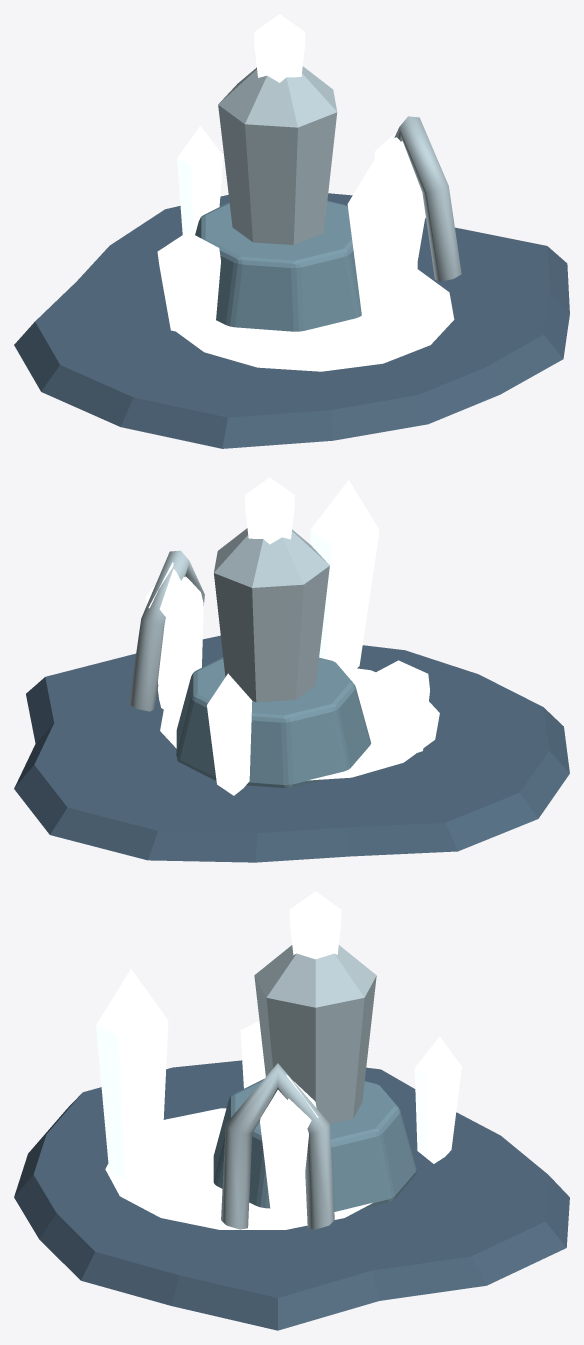
File: crystal-basin-lod2.glb
The picture shows the model from 3 angles, top to bottom: view 1: azimuth 30°, elevation 25°; view 2: azimuth 150°, elevation 25°; view 3: azimuth 270°, elevation 25°; orthographic projection. The views are drawn at different scales.
Parts seen in each view (by area): view 1: STONE_TERRAIN_SOCKET, CRYSTAL_PALACE_KEEP, STONE_PALACE_TERRACE, FX_FLOAT_CRYSTAL_3, CRYSTAL_REFLECTIVE_BASIN, CRYSTAL_SPIRE_2, CRYSTAL_PRISM_ARCH_0, CRYSTAL_SPIRE_1, FX_CORE, FX_FLOAT_CRYSTAL_0; view 2: STONE_TERRAIN_SOCKET, CRYSTAL_PALACE_KEEP, STONE_PALACE_TERRACE, FX_FLOAT_CRYSTAL_3, FX_FLOAT_CRYSTAL_0, CRYSTAL_SPIRE_2, CRYSTAL_SPIRE_1, CRYSTAL_PRISM_ARCH_0, CRYSTAL_REFLECTIVE_BASIN, FX_CORE; view 3: STONE_TERRAIN_SOCKET, CRYSTAL_PALACE_KEEP, FX_FLOAT_CRYSTAL_3, STONE_PALACE_TERRACE, CRYSTAL_REFLECTIVE_BASIN, CRYSTAL_PRISM_ARCH_0, FX_FLOAT_CRYSTAL_0, CRYSTAL_SPIRE_1, FX_CORE, CRYSTAL_SPIRE_2.
Part boxes in pixels (<box>): STONE_TERRAIN_SOCKET: <box>14,193,569,448</box>; CRYSTAL_PALACE_KEEP: <box>218,66,337,244</box>; STONE_PALACE_TERRACE: <box>195,200,361,331</box>; FX_FLOAT_CRYSTAL_3: <box>347,150,418,353</box>; CRYSTAL_REFLECTIVE_BASIN: <box>176,269,454,371</box>; CRYSTAL_SPIRE_2: <box>157,231,220,334</box>; CRYSTAL_PRISM_ARCH_0: <box>394,116,461,281</box>; CRYSTAL_SPIRE_1: <box>177,126,223,234</box>; FX_CORE: <box>254,14,305,82</box>; FX_FLOAT_CRYSTAL_0: <box>374,132,425,260</box>; STONE_TERRAIN_SOCKET: <box>14,635,569,862</box>; CRYSTAL_PALACE_KEEP: <box>214,528,329,702</box>; STONE_PALACE_TERRACE: <box>176,657,370,788</box>; FX_FLOAT_CRYSTAL_3: <box>310,480,379,676</box>; FX_FLOAT_CRYSTAL_0: <box>146,562,203,715</box>; CRYSTAL_SPIRE_2: <box>368,660,429,757</box>; CRYSTAL_SPIRE_1: <box>207,673,252,795</box>; CRYSTAL_PRISM_ARCH_0: <box>129,550,204,711</box>; CRYSTAL_REFLECTIVE_BASIN: <box>160,668,439,780</box>; FX_CORE: <box>245,477,294,544</box>; STONE_TERRAIN_SOCKET: <box>14,1060,569,1330</box>; CRYSTAL_PALACE_KEEP: <box>254,945,376,1123</box>; FX_FLOAT_CRYSTAL_3: <box>96,969,168,1185</box>; STONE_PALACE_TERRACE: <box>213,1079,416,1211</box>; CRYSTAL_REFLECTIVE_BASIN: <box>105,1108,372,1229</box>; CRYSTAL_PRISM_ARCH_0: <box>221,1063,334,1229</box>; FX_FLOAT_CRYSTAL_0: <box>260,1075,318,1225</box>; CRYSTAL_SPIRE_1: <box>414,1036,461,1163</box>; FX_CORE: <box>289,891,341,959</box>; CRYSTAL_SPIRE_2: <box>240,1021,265,1088</box>.
Size of the model in its own units: 1.97 by 1.08 by 1.77.
